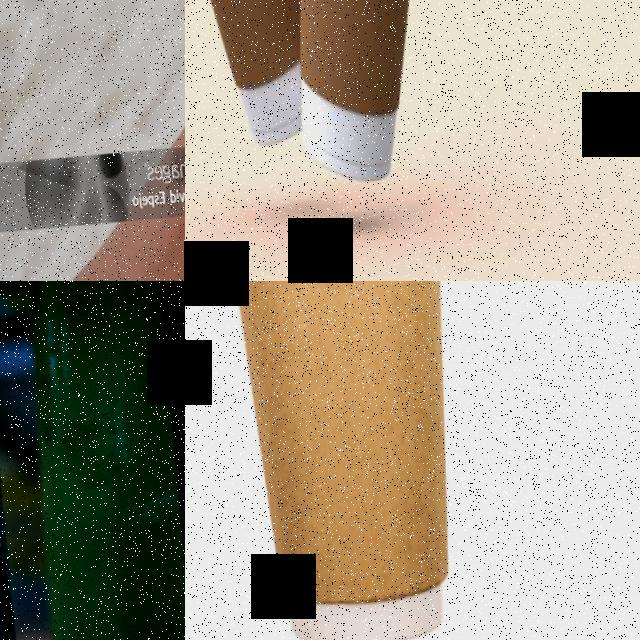cup: (214, 281, 490, 640), (273, 0, 443, 186), (185, 0, 317, 149)
